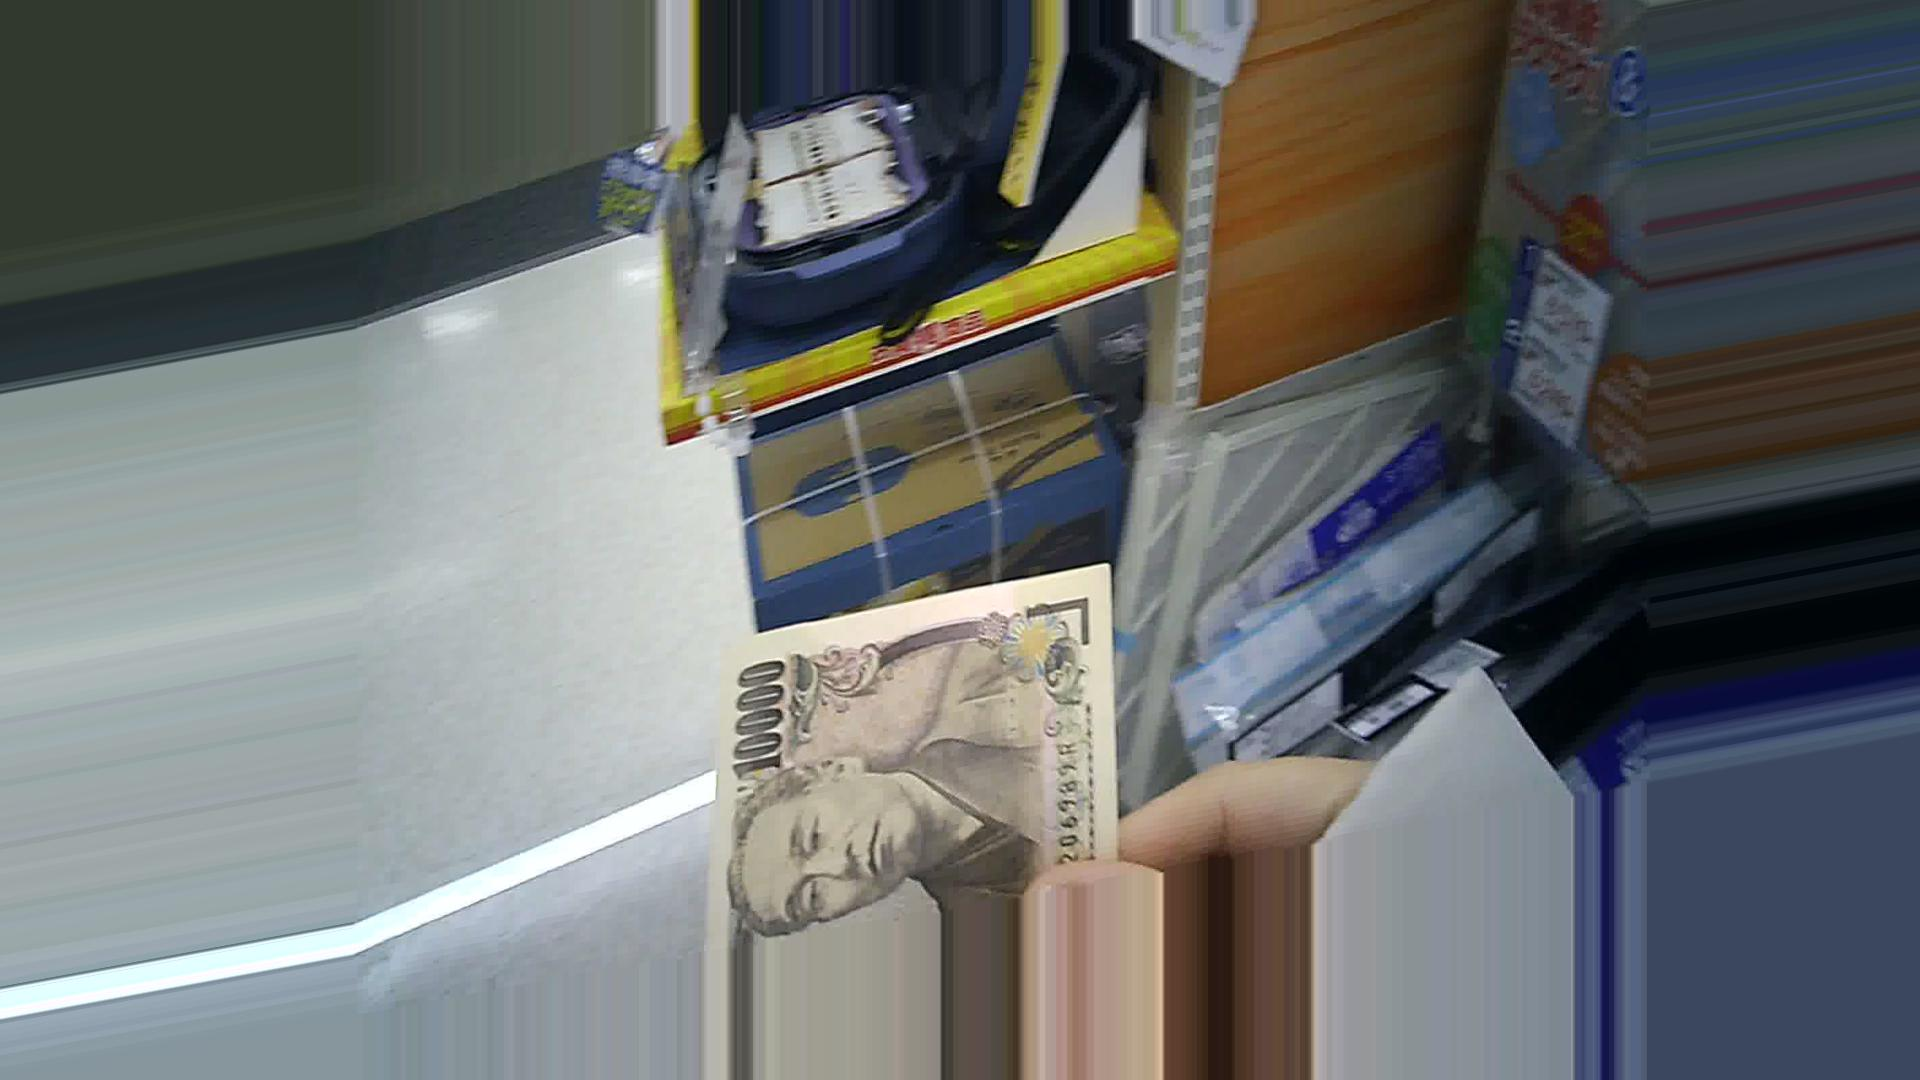10,000 Yen: (688, 570, 1130, 906)
